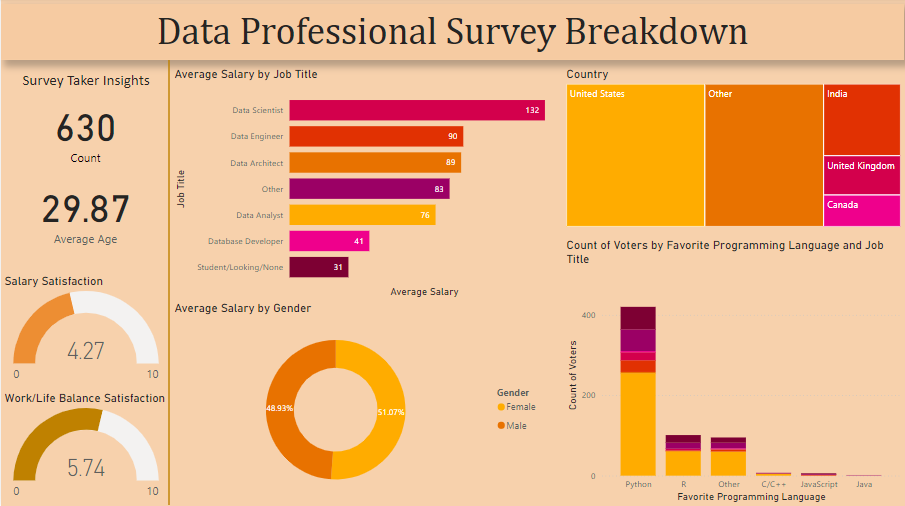

The dashboard page shown, as its layout file describes it:
{"tool":"powerbi","page":{"name":"Page 1","canvas":[1280,720],"ordinal":0},"visuals":[{"type":"textbox","box":[0,8.5,1279.8,79.4],"z":0},{"type":"card","fields":{"Values":["DAX Measures.Count of Survey Takers"]},"box":[25.5,130.4,188.5,114.8],"z":1000},{"type":"card","fields":{"Values":["DAX Measures.Average Age"]},"box":[25.5,245.2,188.5,114.8],"z":2000},{"type":"barChart","title":"Average Salary by Job Title","fields":{"Category":["Data Professional Survey.Q1 - Which Title Best Fits your Current Role?.1"],"Series":["Data Professional Survey.Q1 - Which Title Best Fits your Current Role?.1"],"Y":["Avg(Data Professional Survey.Average Salary)"]},"box":[240.9,97.8,555.6,331.7],"z":3000},{"type":"columnChart","fields":{"Category":["Data Professional Survey.Q5 - Favorite Programming Language"],"Y":["DAX Measures.Count"],"Series":["Data Professional Survey.Q1 - Which Title Best Fits your Current Role?.1"]},"box":[796.5,340.2,483.3,379.8],"z":4000},{"type":"treemap","title":"Country","fields":{"Group":["Data Professional Survey.Q11 - Which Country do you live in?"],"Values":["CountNonNull(Data Professional Survey.Q11 - Which Country do you live in?)"]},"box":[796.5,97.8,483.3,231],"z":5000},{"type":"gauge","title":"Work/Life Balance Satisfaction","fields":{"Y":["Avg(Data Professional Survey.Q6 - How Happy are you in your Current Position with the following? (Work/Life Balance))"],"MinValue":["Min(Data Professional Survey.Q6 - How Happy are you in your Current Position with the following? (Work/Life Balance))"],"MaxValue":["Max(Data Professional Survey.Q6 - How Happy are you in your Current Position with the following? (Work/Life Balance))1"]},"box":[0,557,240.9,163],"z":6000},{"type":"gauge","title":"Salary Satisfaction","fields":{"Y":["Avg(Data Professional Survey.Q6 - How Happy are you in your Current Position with the following? (Salary))"],"MinValue":["Min(Data Professional Survey.Q6 - How Happy are you in your Current Position with the following? (Salary))"],"MaxValue":["Max(Data Professional Survey.Q6 - How Happy are you in your Current Position with the following? (Salary))"]},"box":[0,391.2,240.9,163],"z":7000},{"type":"donutChart","title":"Average Salary by Gender","fields":{"Category":["Data Professional Survey.Q9 - Male/Female?"],"Y":["Avg(Data Professional Survey.Average Salary)"]},"box":[240.9,429.4,532.9,289.1],"z":8000},{"type":"textbox","box":[19.8,97.8,201.3,45.4],"z":9000},{"type":"shape","box":[100.6,87.9,275,630.7],"z":9001}]}

Visuals, with their boxes in screenshot pixels (x1, y1, x2, y2), scaled from the page's 1280x720 canvas onto the 905x506 screenshot:
textbox: (left=0, top=6, right=904, bottom=62)
card - DAX Measures.Count of Survey Takers: (left=18, top=92, right=151, bottom=172)
card - DAX Measures.Average Age: (left=18, top=172, right=151, bottom=253)
"Average Salary by Job Title" barChart: (left=170, top=69, right=563, bottom=302)
columnChart - Data Professional Survey.Q5 - Favorite Programming Language x DAX Measures.Count: (left=563, top=239, right=904, bottom=505)
"Country" treemap: (left=563, top=69, right=904, bottom=231)
"Work/Life Balance Satisfaction" gauge: (left=0, top=391, right=170, bottom=505)
"Salary Satisfaction" gauge: (left=0, top=275, right=170, bottom=389)
"Average Salary by Gender" donutChart: (left=170, top=302, right=547, bottom=505)
textbox: (left=14, top=69, right=156, bottom=101)
shape: (left=71, top=62, right=266, bottom=505)
